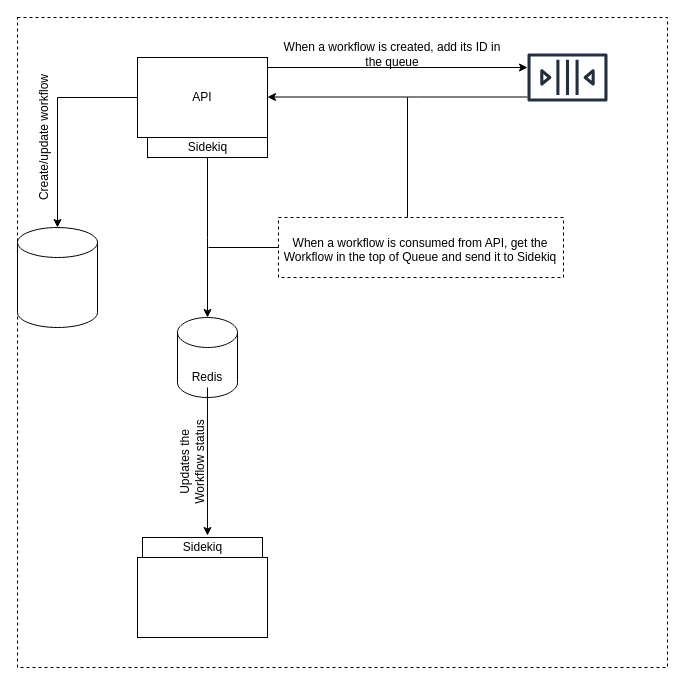
The diagram is 685 pixels wide and 685 high, and some of its shapes have lost their labels. The shapes that lost their labels are listed below. From the top down, each one's centre as x and y in pixels, then its label:
At (567,77): "RabbitMQ Queue".
At (57,277): "Database".
At (202,597): "Worker".
